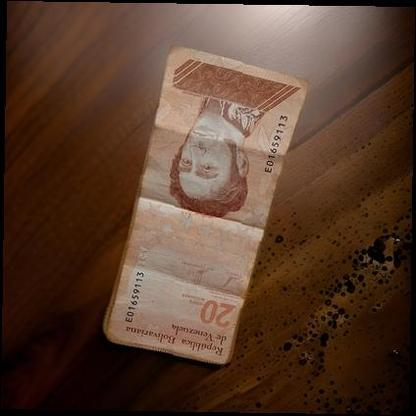twenty-front-vef: (104, 44, 310, 364)
